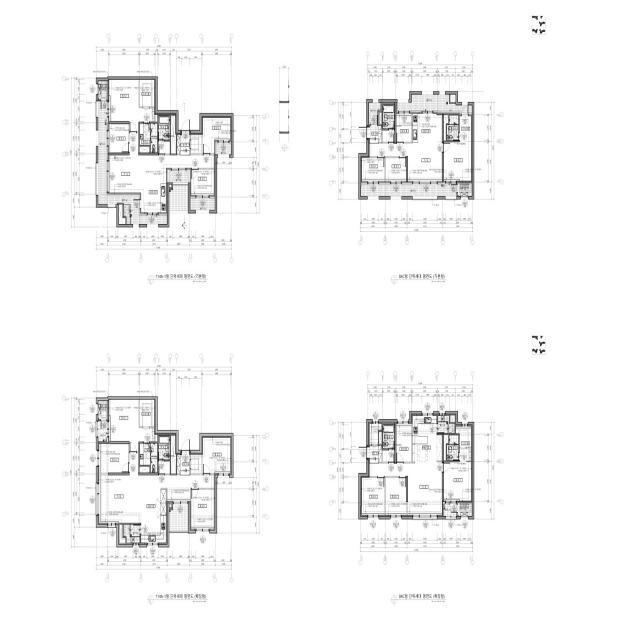space_balconi: (98, 101, 167, 224), (397, 95, 472, 114), (361, 184, 457, 197), (169, 186, 188, 211), (169, 506, 188, 531), (123, 525, 140, 543), (190, 198, 215, 210), (438, 416, 455, 433), (369, 103, 381, 124), (169, 171, 188, 183), (98, 421, 107, 441), (216, 143, 231, 155), (444, 504, 457, 516)
space_bedroom: (109, 80, 154, 132), (109, 400, 154, 452), (444, 142, 471, 181), (444, 462, 471, 501), (203, 437, 231, 473), (203, 117, 231, 153), (191, 490, 215, 529), (362, 478, 385, 515), (99, 444, 128, 473), (386, 478, 406, 515), (191, 170, 215, 196), (362, 158, 385, 182), (109, 124, 128, 153), (386, 158, 406, 182)
space_dressroom: (140, 400, 155, 427), (140, 80, 155, 107), (456, 426, 471, 447), (460, 116, 471, 142)
space_front: (177, 133, 190, 155), (177, 455, 190, 475), (370, 126, 382, 143), (370, 446, 382, 463)
space_kitchen: (412, 416, 442, 462), (141, 489, 166, 543), (141, 170, 166, 213), (412, 114, 442, 143)
space_living_room: (99, 453, 215, 523), (107, 132, 215, 194), (370, 462, 442, 515), (370, 143, 442, 182)
space_other: (396, 424, 411, 462), (396, 114, 411, 142), (167, 488, 190, 501), (370, 424, 382, 445), (191, 134, 202, 153), (191, 455, 202, 473), (171, 116, 176, 154), (171, 436, 176, 474), (158, 141, 170, 154), (158, 461, 170, 474), (460, 448, 471, 461), (383, 130, 394, 142), (383, 450, 394, 462), (119, 525, 125, 544), (119, 205, 125, 224), (444, 115, 448, 141), (444, 435, 448, 461), (139, 147, 149, 153), (450, 95, 456, 102), (379, 432, 382, 444), (450, 415, 455, 422), (379, 113, 382, 124), (155, 114, 157, 122), (155, 434, 157, 442), (169, 504, 171, 507), (169, 185, 171, 187)
space_outdoor_room: (458, 183, 472, 196), (458, 503, 472, 516), (98, 81, 107, 100), (98, 401, 107, 420)
space_toilet: (139, 443, 157, 473), (140, 124, 157, 153), (158, 116, 170, 140), (158, 436, 170, 460), (447, 115, 458, 141), (447, 435, 458, 460), (383, 105, 394, 129), (383, 425, 394, 449)
